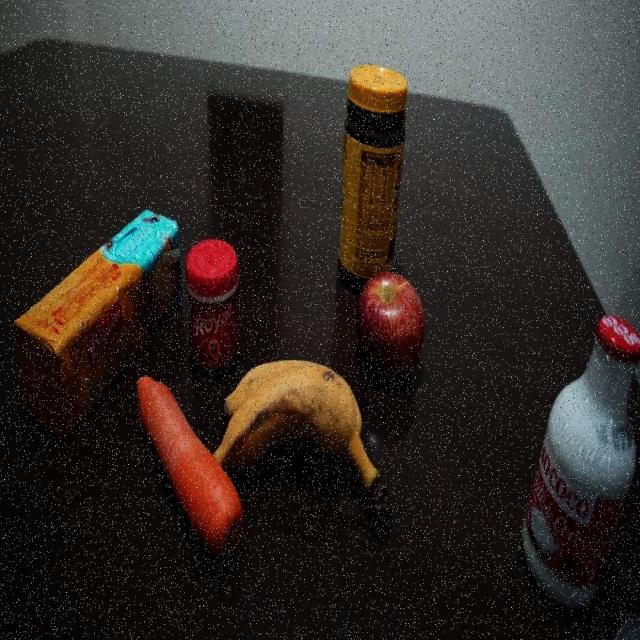Apple: (357, 271, 427, 373)
Banana: (223, 364, 381, 475)
Carrot: (128, 370, 216, 568)
ChocolatePowder: (342, 63, 406, 265)
CoconutMilk: (522, 314, 640, 616)
Cracker: (11, 204, 183, 373)
Yeast: (185, 234, 240, 374)
